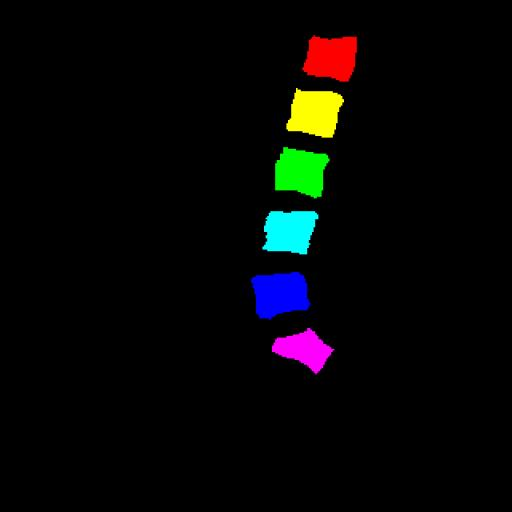L1: (303, 36, 357, 82)
L2: (286, 89, 344, 138)
L3: (275, 147, 329, 198)
L4: (262, 211, 318, 254)
L5: (251, 272, 310, 318)
S1: (272, 328, 334, 374)
